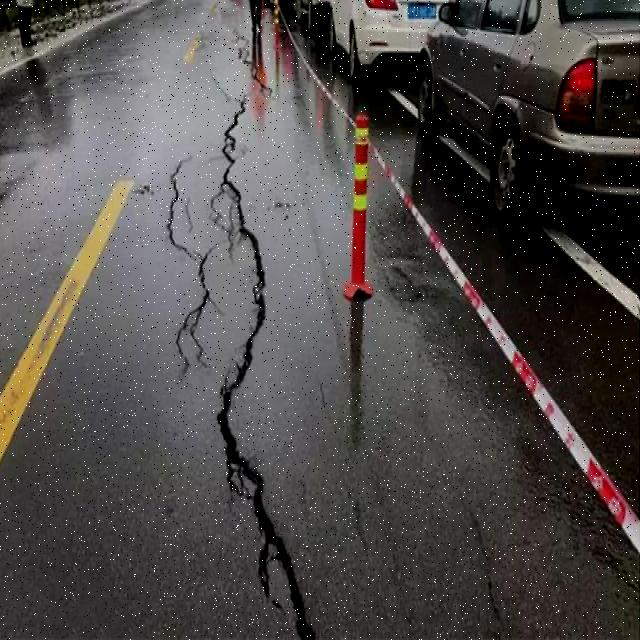Crack: (214, 96, 316, 640), (166, 157, 210, 379)
